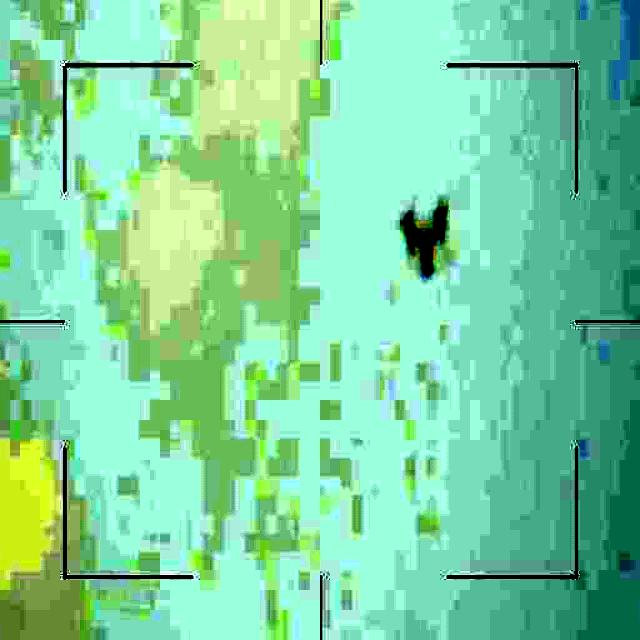bird: (400, 198, 452, 275)
